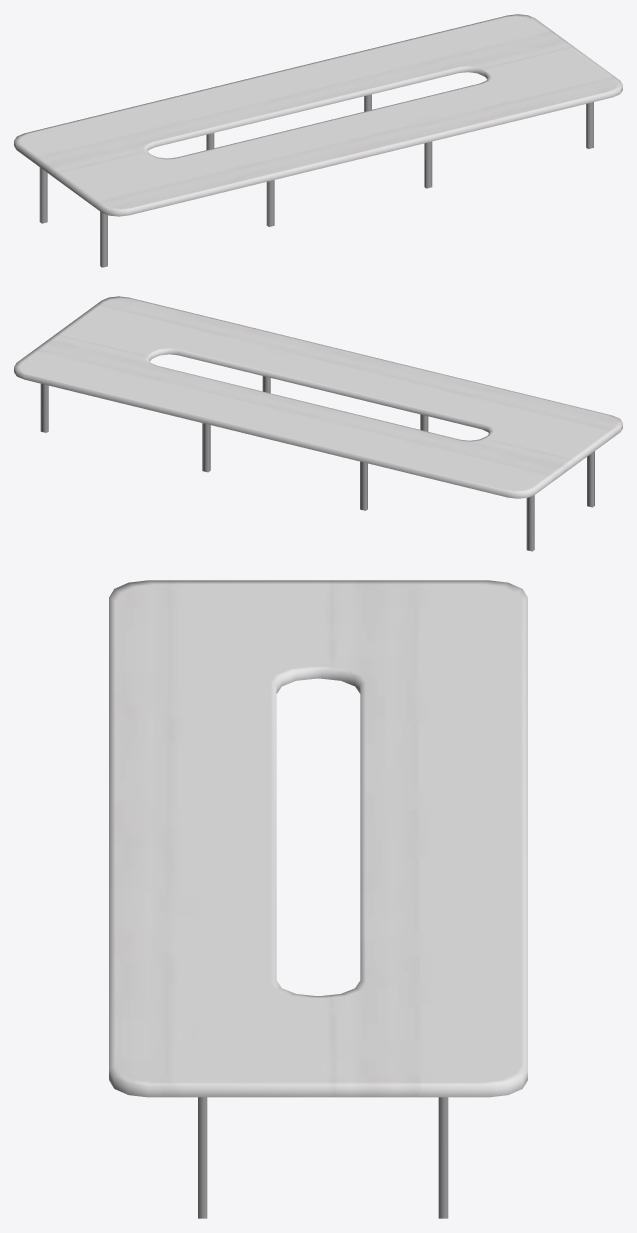
The model's file is table_large.glb.
3 views of the same model, one above another, from view 1: azimuth 30°, elevation 25°; view 2: azimuth 150°, elevation 25°; view 3: azimuth 270°, elevation 25° (orthographic). The views are drawn at different scales.
Visible parts, largest first — view 1: conferenceTable.001_details_0; view 2: conferenceTable.001_details_0; view 3: conferenceTable.001_details_0.
Boxes of the visible parts, x1=… form: conferenceTable.001_details_0: x1=14, y1=14, x2=622, y2=267; conferenceTable.001_details_0: x1=14, y1=296, x2=622, y2=551; conferenceTable.001_details_0: x1=109, y1=580, x2=527, y2=1218.
Bounding box in the file's own units: 6.04 × 0.8118 × 2.11.
Materials: 1 (1 with a texture image).
